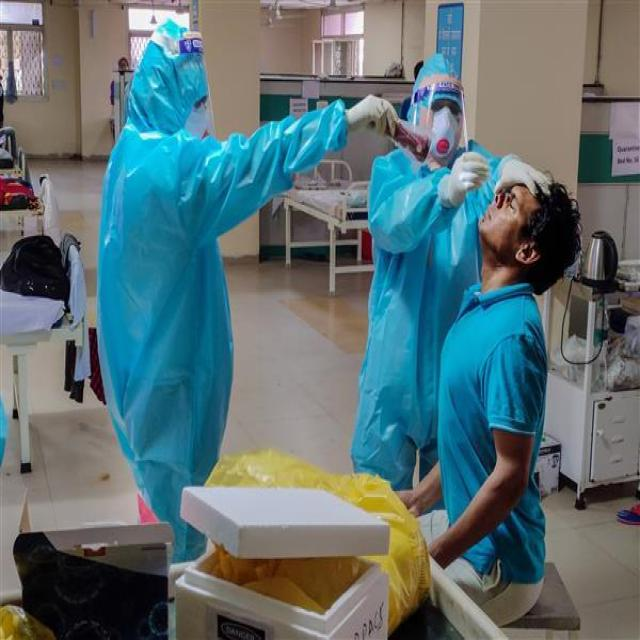Coverall: (73, 3, 258, 569), (367, 64, 501, 496)
Gloves: (490, 115, 556, 227), (329, 80, 407, 145), (436, 145, 496, 221)
Mask: (421, 105, 479, 164), (173, 97, 221, 146)
